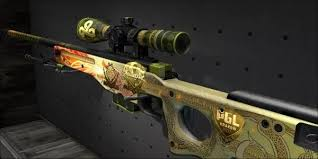gun: (6, 12, 317, 157)
